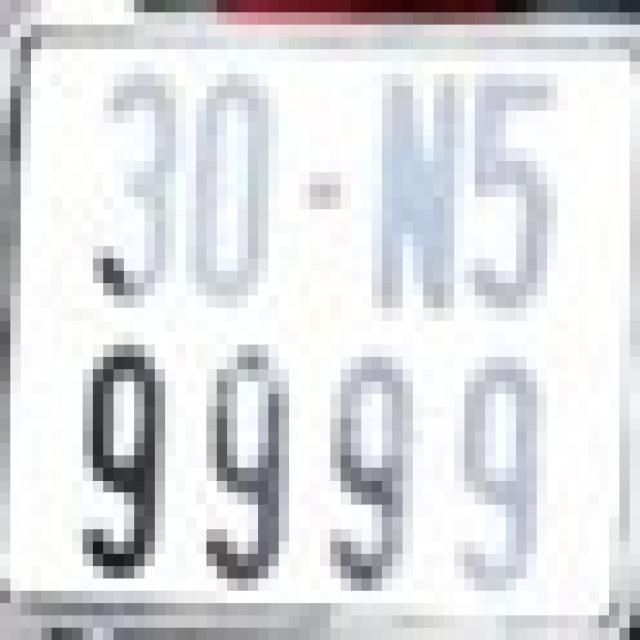0: (185, 74, 268, 296)
3: (92, 74, 176, 296)
5: (464, 74, 558, 308)
9: (454, 357, 547, 591), (82, 344, 166, 578), (206, 344, 289, 578), (330, 357, 413, 591)
N: (372, 68, 464, 314)
